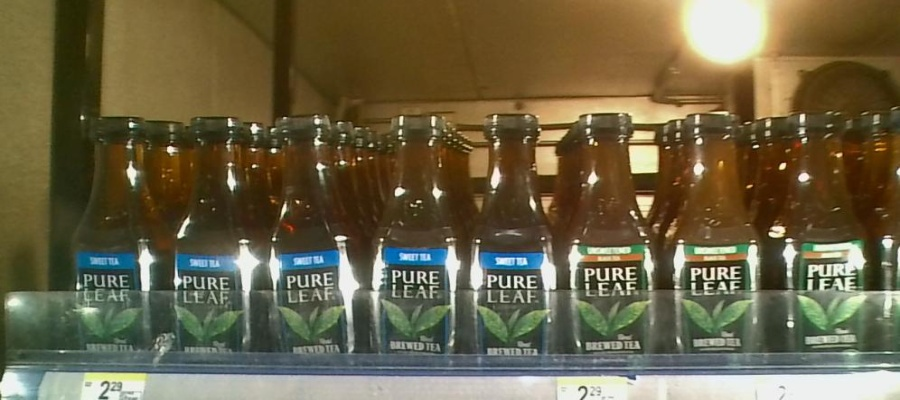bottle: (663, 109, 774, 372), (366, 101, 467, 373), (562, 107, 662, 376), (777, 103, 872, 374), (166, 111, 264, 372), (70, 107, 166, 372), (268, 106, 361, 373), (471, 103, 560, 373)
